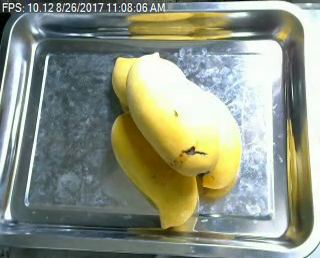Mango: (123, 49, 222, 180), (110, 112, 204, 233), (173, 84, 249, 190)
